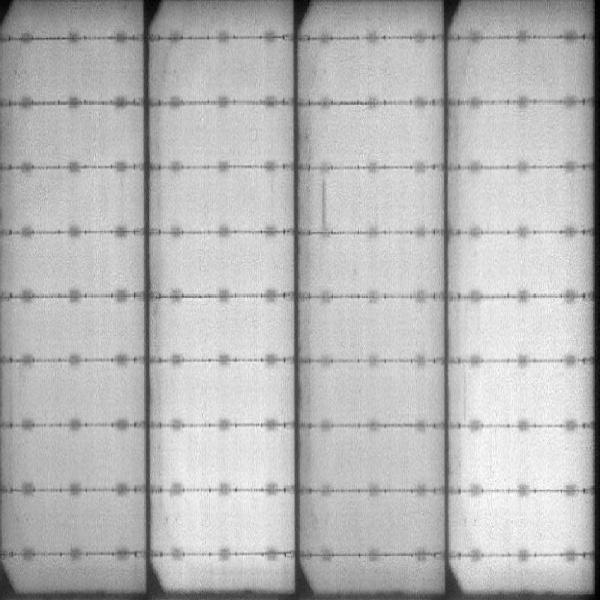scratch: (317, 177, 332, 230)
